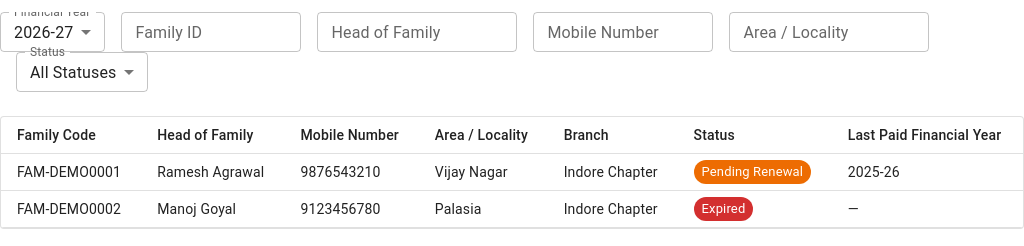
it: PendingPaymentReportTab › narrows by Membership Status client-side (EXPIRED excludes the PENDING_RENEWAL family)
Expected: the text "Ramesh Agrawal" is shown, x1=141 y1=154 x2=284 y2=190
Step 1. Click the dropdown labelled "All Statuses" → click(73, 72), box x1=30 y1=62 x2=116 y2=82
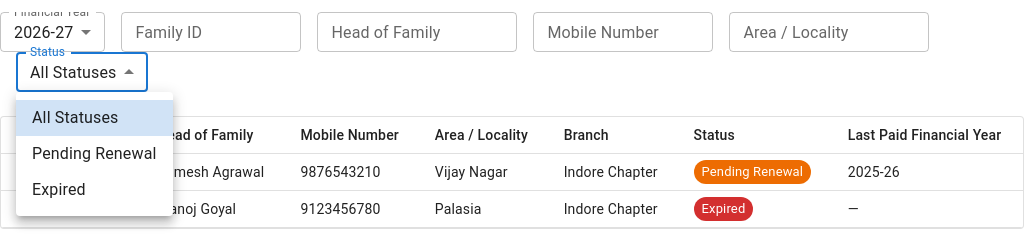
Step 2. Click the option "Expired" → click(59, 190), box x1=32 y1=180 x2=86 y2=199
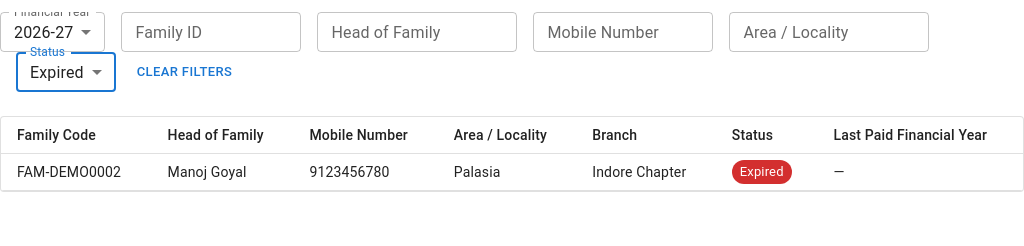
Expected: the text "Manoj Goyal" is shown, x1=152 y1=154 x2=294 y2=190
Expected: the text "Ramesh Agrawal" is gone
